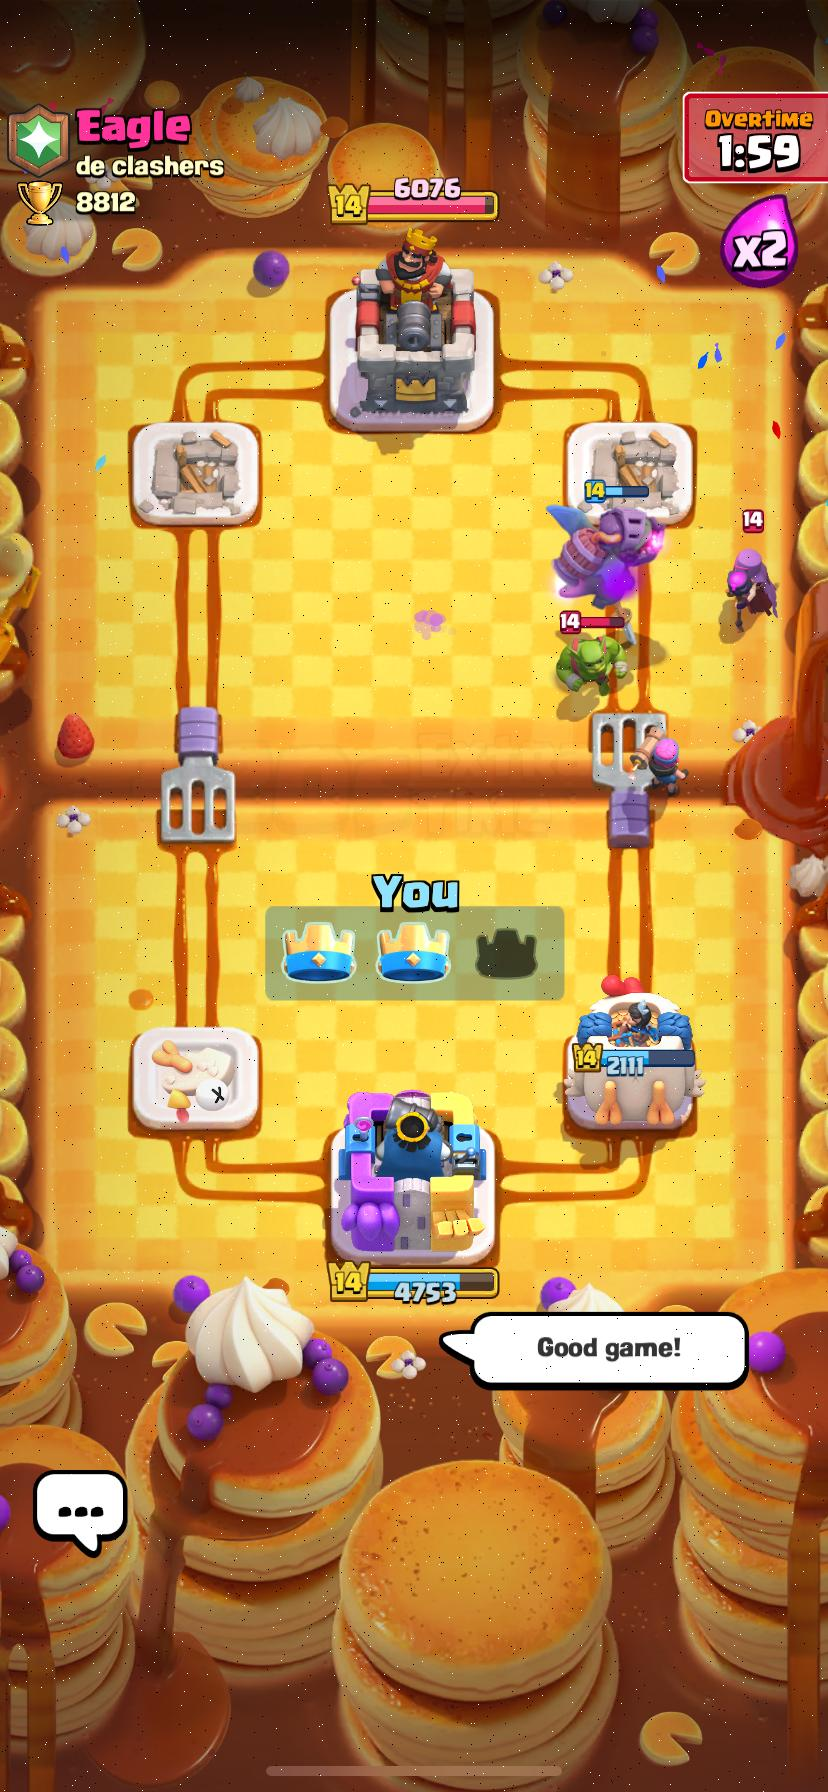EBrawler: (557, 630, 629, 697)
EKingTower: (331, 229, 493, 431)
EMotherWitch: (727, 549, 777, 634)
OFirecrack: (631, 725, 687, 797)
OInfernoDrag: (548, 506, 664, 606)
OwnKingTower: (331, 1090, 495, 1264)
OwnPrincessTower: (563, 976, 704, 1133)
TowerDown: (567, 421, 693, 527), (132, 1027, 258, 1133), (132, 422, 258, 526)
